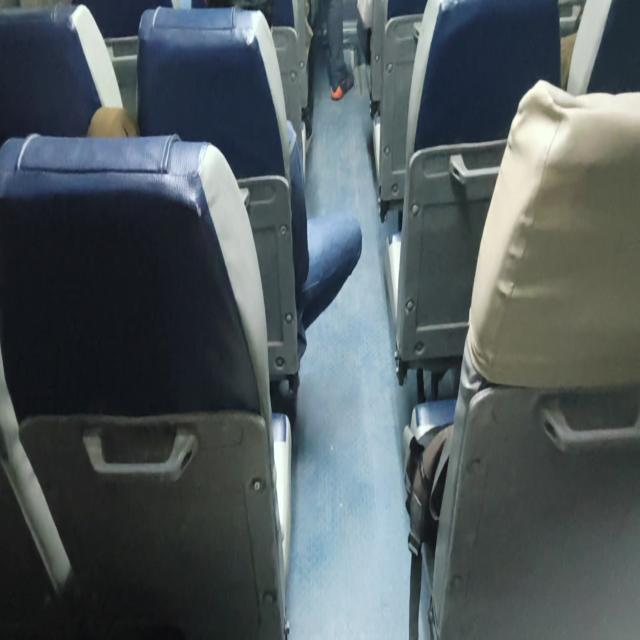person: (221, 0, 272, 53)
